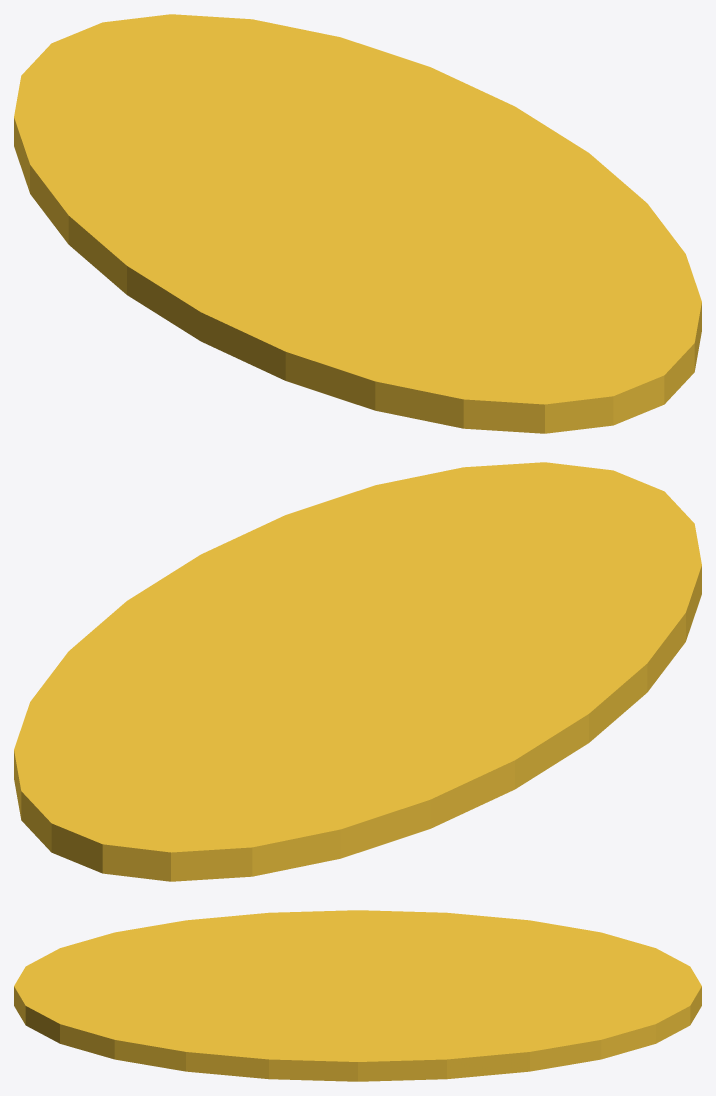
File: base-small.fbx
3 views of the same model, one above another, from view 1: azimuth 30°, elevation 25°; view 2: azimuth 150°, elevation 25°; view 3: azimuth 270°, elevation 25° (orthographic). The views are drawn at different scales.
Visible parts, largest first — view 1: surface; view 2: surface; view 3: surface.
Part boxes in pixels (x1,y1,x2,y2): surface: [14, 14, 701, 433]; surface: [14, 462, 701, 881]; surface: [14, 910, 701, 1081].
Size of what is drawn, in the model's own units: 2478 by 150 by 4743.
